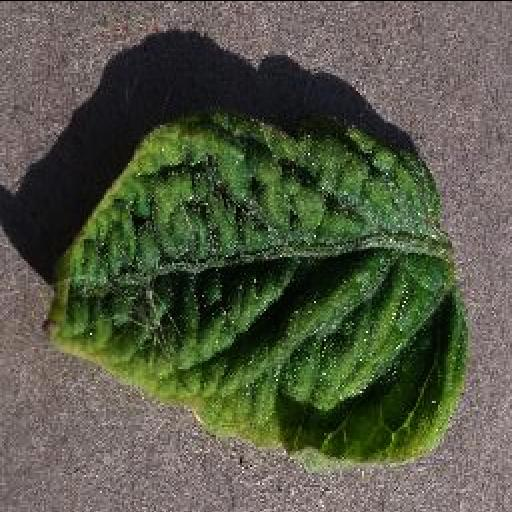disease_tomato: (37, 105, 467, 465)
